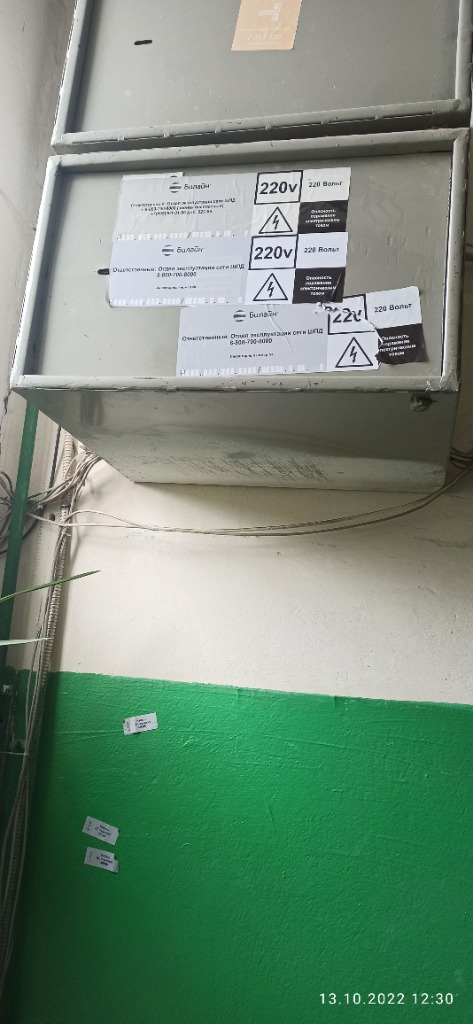e2-6u: (6, 125, 470, 495)
